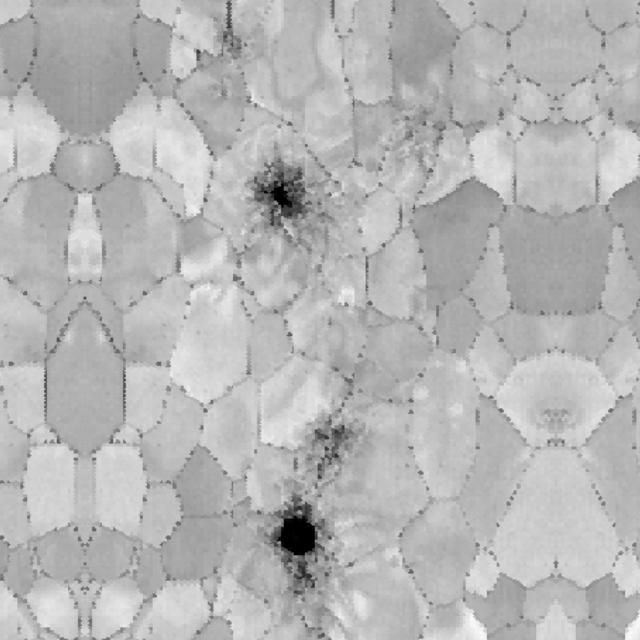good_void: (268, 480, 349, 583), (240, 146, 327, 230), (387, 105, 447, 181), (183, 26, 254, 79), (308, 418, 356, 474)
